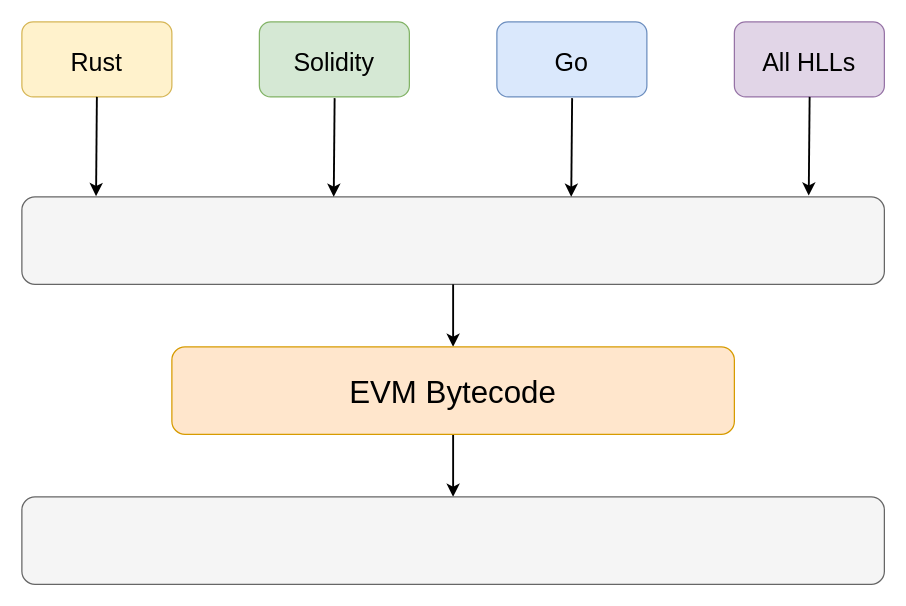
This 906x606 diagram has some shape labels left out. Here are the shapes that lost their labels. From the top down, the box of each, then its label:
(21, 196, 884, 284): eWASM
(21, 496, 884, 584): EVM Machine
